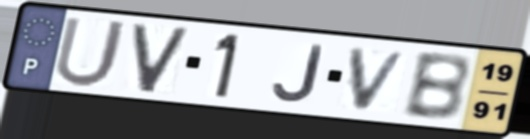1: (211, 32, 242, 100)
B: (400, 52, 473, 123)
J: (270, 42, 328, 104)
U: (51, 14, 131, 90)
V: (129, 21, 193, 95), (347, 46, 413, 113)
